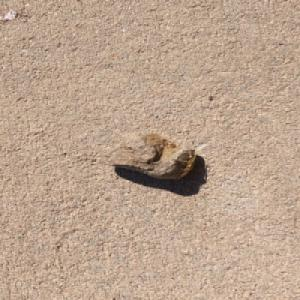Rock: (96, 131, 197, 180)
